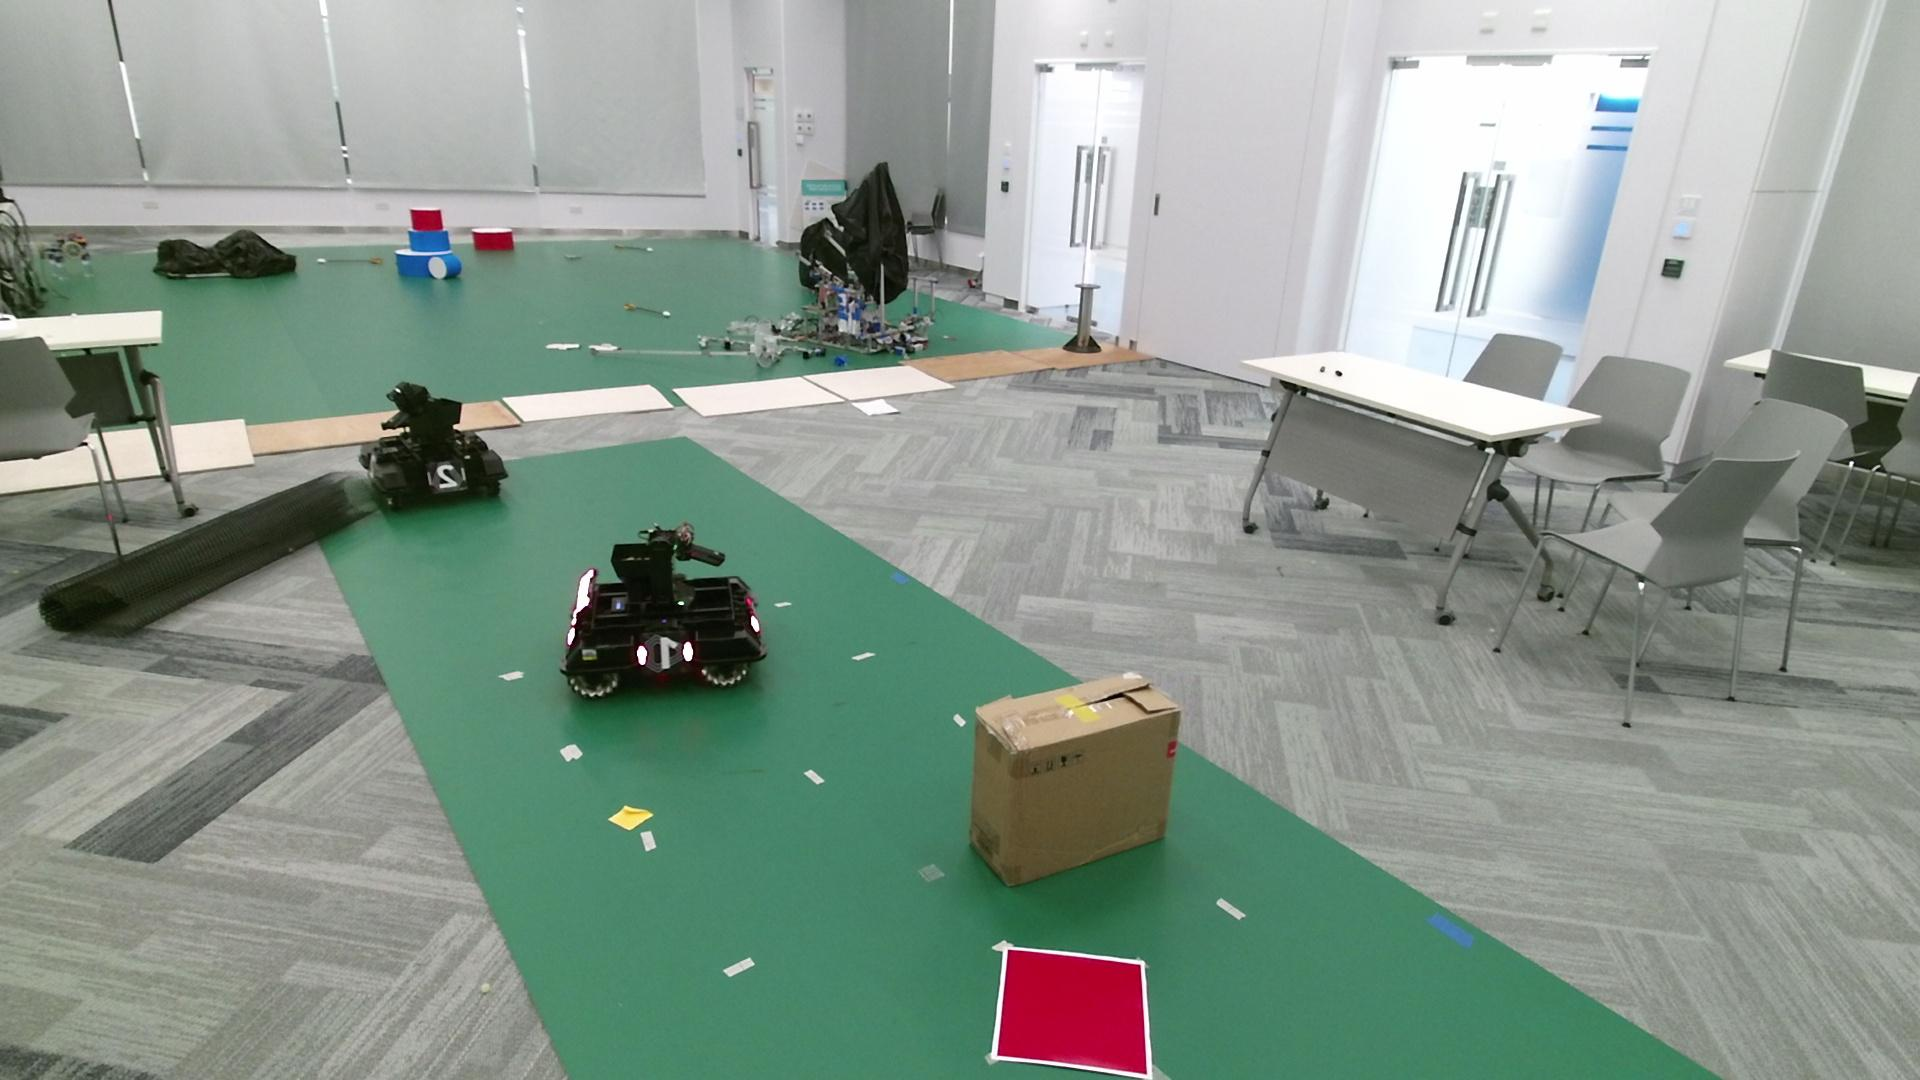robot: (560, 520, 769, 700), (357, 380, 509, 509)
